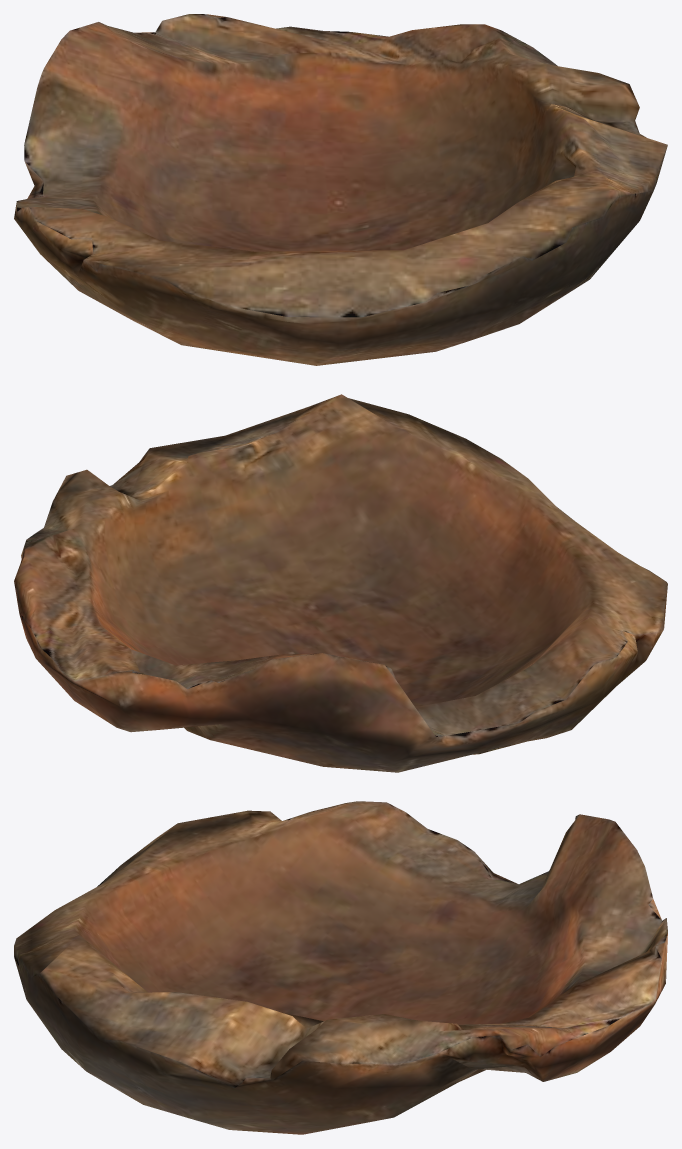
The model's file is wooden_bowl_01.glb.
3 renders of one model, top to bottom at view 1: azimuth 30°, elevation 25°; view 2: azimuth 150°, elevation 25°; view 3: azimuth 270°, elevation 25°, orthographic. The views are drawn at different scales.
Visible parts, largest first — view 1: wooden_bowl_01; view 2: wooden_bowl_01; view 3: wooden_bowl_01.
Boxes of the visible parts, <box> form: wooden_bowl_01: <box>14,14,667,365</box>; wooden_bowl_01: <box>14,394,667,772</box>; wooden_bowl_01: <box>14,801,667,1134</box>.
Bounding box in the file's own units: 0.3127 × 0.0929 × 0.3079.
1 material, 1 textured.
